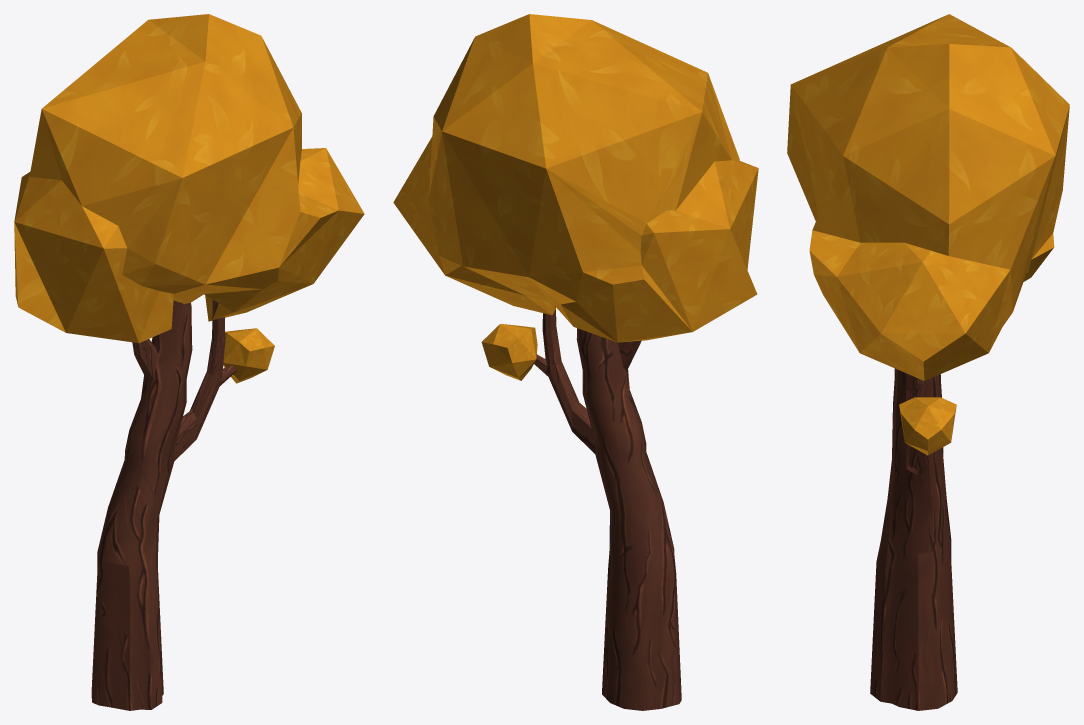
File: Small Tree 2.FBX
3 renders of one model, left to right at view 1: azimuth 30°, elevation 25°; view 2: azimuth 150°, elevation 25°; view 3: azimuth 270°, elevation 25°, orthographic. The views are drawn at different scales.
Parts seen in each view (by area): view 1: Cylinder001; view 2: Cylinder001; view 3: Cylinder001.
Boxes of the visible parts, <box> form: Cylinder001: <box>14,14,364,710</box>; Cylinder001: <box>393,14,758,710</box>; Cylinder001: <box>787,14,1069,710</box>.
Bounding box in the file's own units: 24.45 × 44.93 × 16.47.
